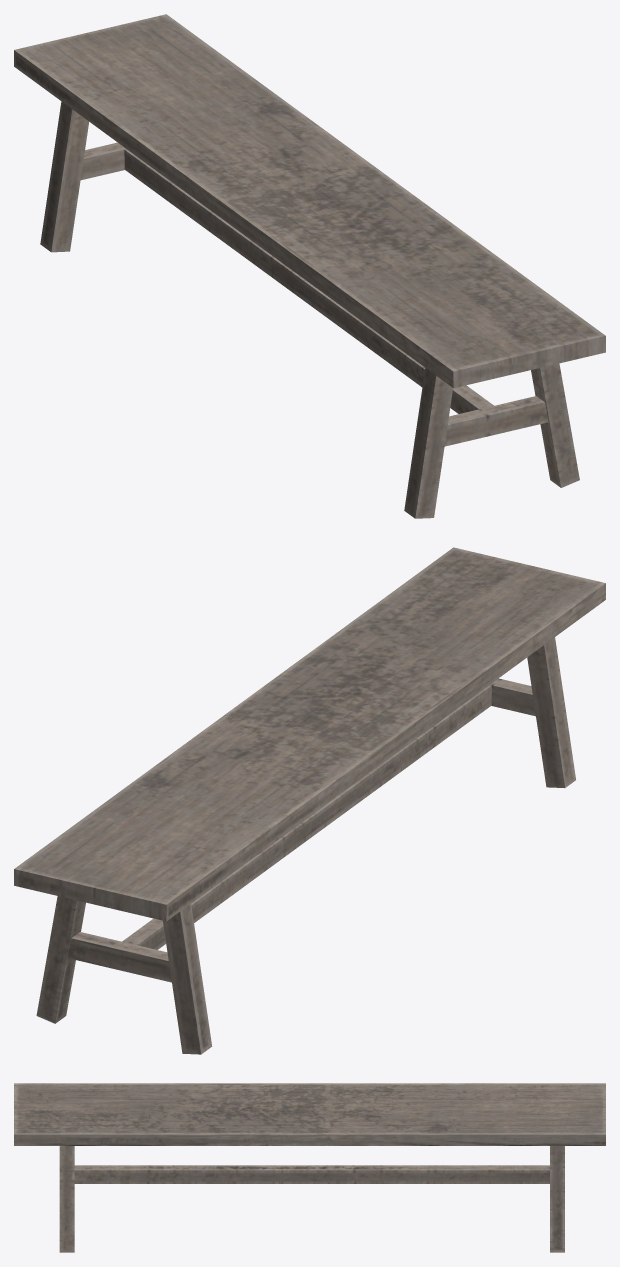
File: SM_Bench.FBX
3 views of the same model, one above another, from view 1: azimuth 30°, elevation 25°; view 2: azimuth 150°, elevation 25°; view 3: azimuth 270°, elevation 25° (orthographic). The views are drawn at different scales.
Visible parts, largest first — view 1: SM_Bench; view 2: SM_Bench; view 3: SM_Bench.
Part boxes in pixels (x1=…): SM_Bench: x1=14, y1=14, x2=605, y2=518; SM_Bench: x1=14, y1=547, x2=605, y2=1054; SM_Bench: x1=14, y1=1083, x2=605, y2=1252.
Size of the model in its own units: 43.29 by 44.2 by 200.
